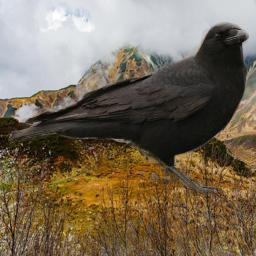Crow: (8, 22, 249, 196)
